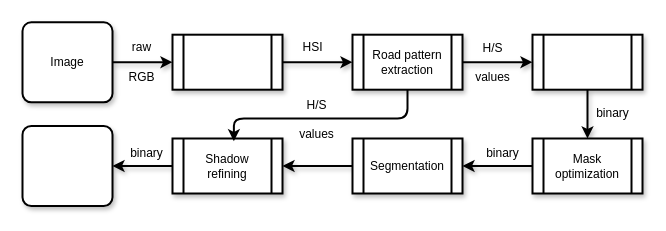
Some shapes in this 666 by 231 pixel diagram are drawn without their labels. The centre of each missing label's shape, as x and y in pixels:
"Color space convertion" goes at point (228, 63).
"H/S segmentation" goes at point (588, 63).
"Mask image" goes at point (68, 167).
